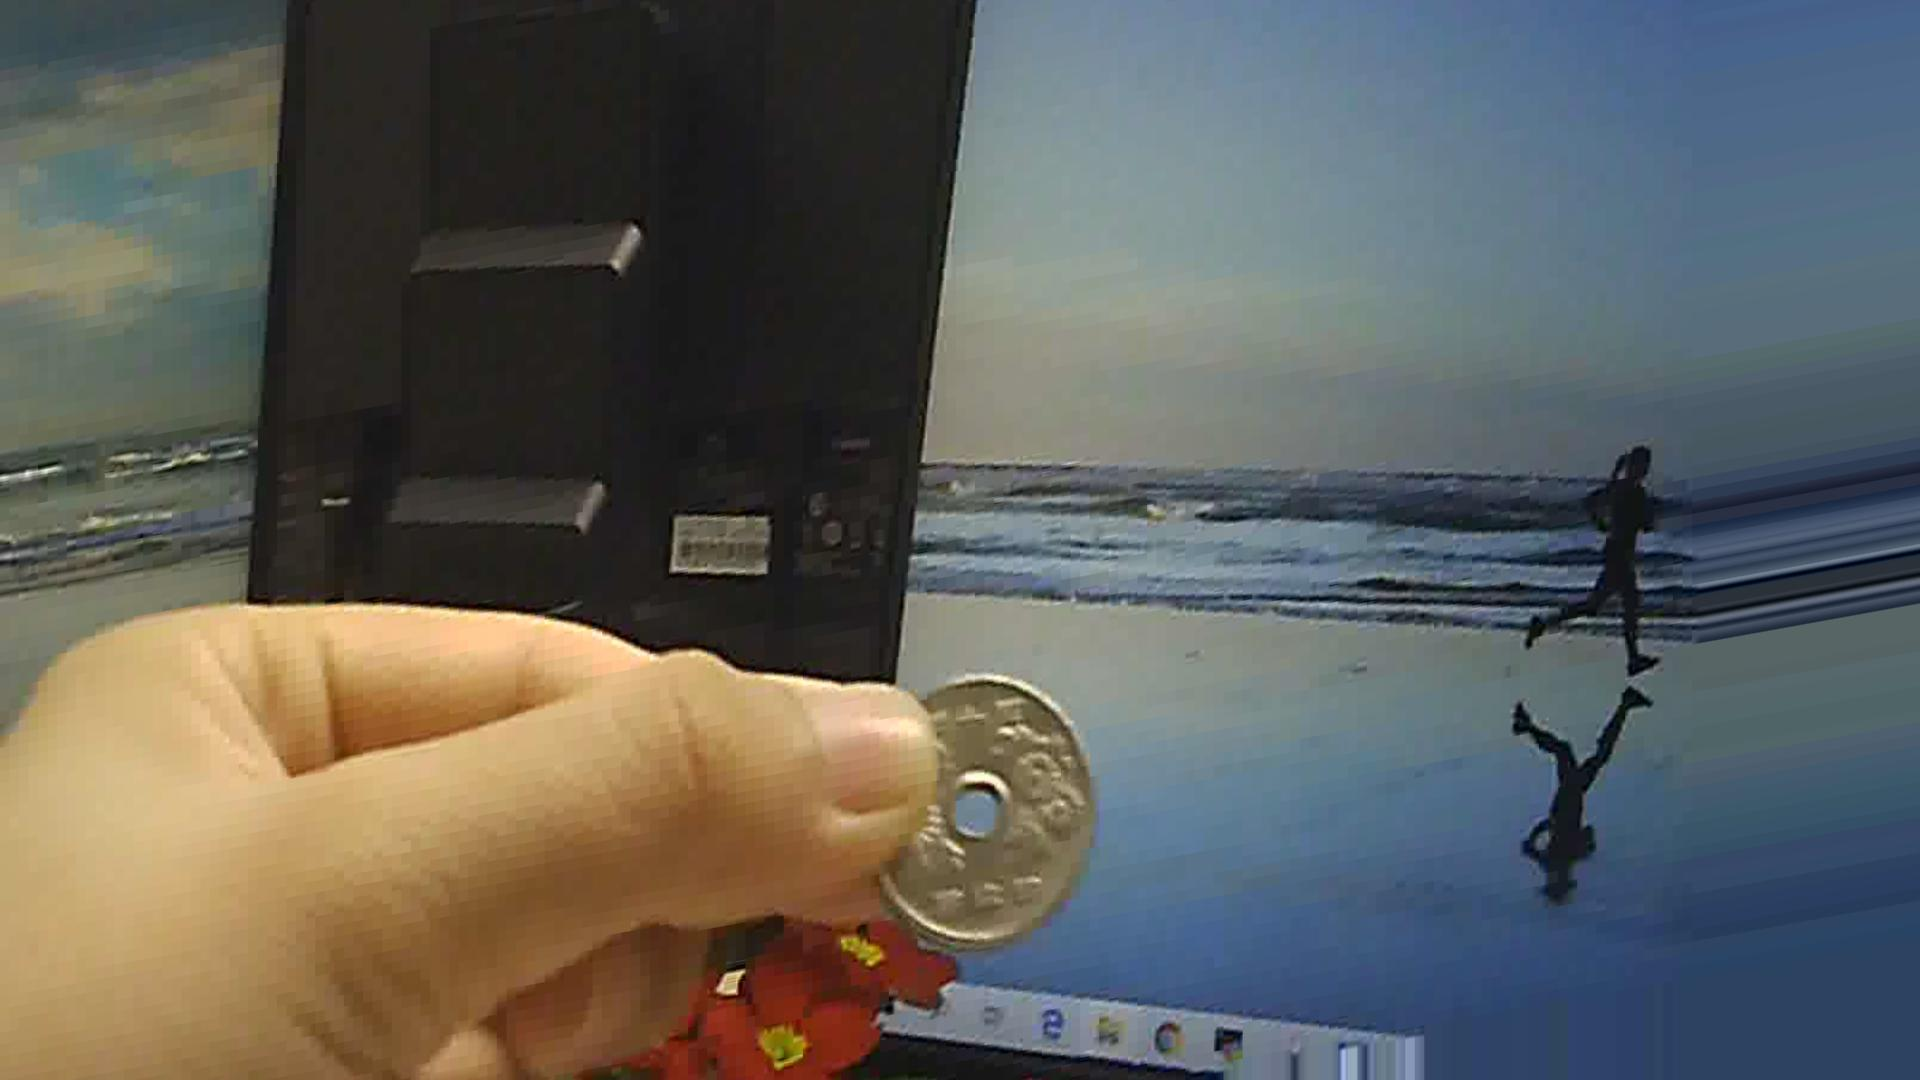50 Yen: (847, 669, 1116, 969)
